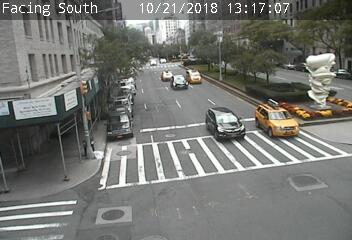car: (257, 106, 297, 137), (206, 108, 241, 137), (170, 76, 187, 89), (185, 71, 202, 82), (161, 71, 171, 77)
